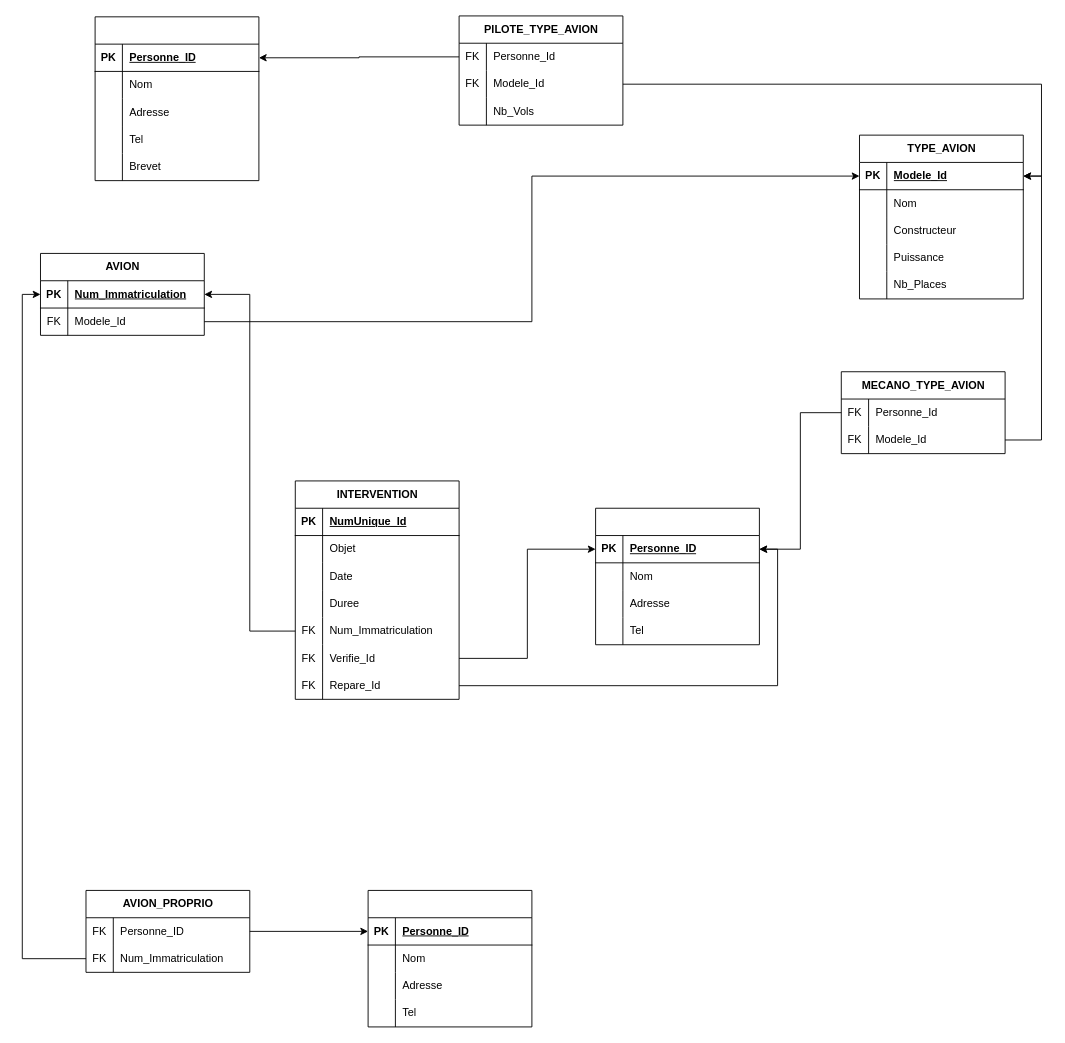
This 1065x1043 diagram has some shape labels left out. Here are the shapes that lost their labels. From the top down, the box of each, then its label:
(94, 16, 259, 181): PILOTE
(595, 507, 759, 645): MECANO
(367, 890, 532, 1027): PROPRIO
